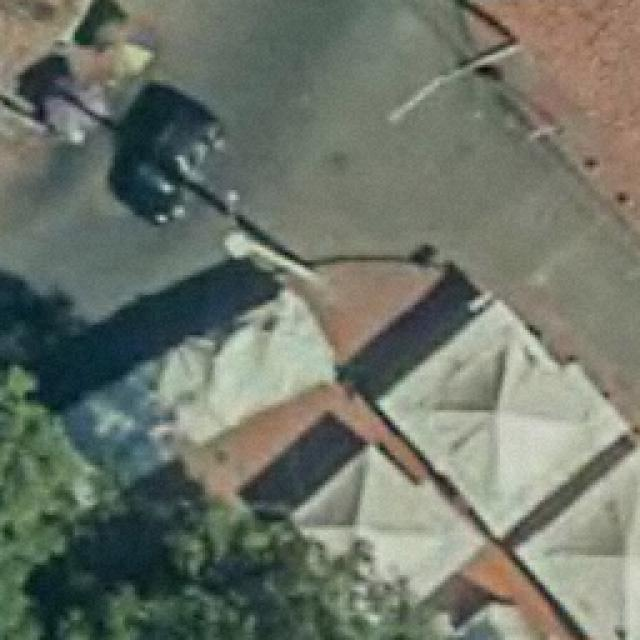vendedor_ambulante: (40, 72, 111, 140), (87, 16, 158, 78)
